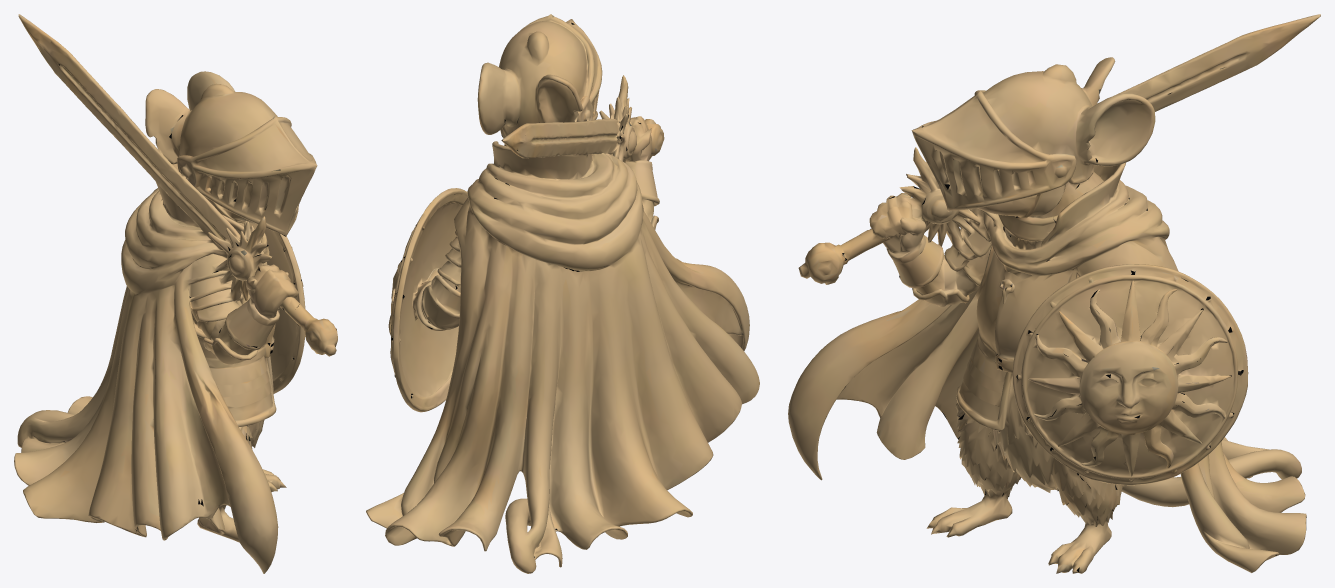
File: rat-web.glb
3 views of the same model, side by side, from view 1: azimuth 30°, elevation 25°; view 2: azimuth 150°, elevation 25°; view 3: azimuth 270°, elevation 25° (orthographic). The views are drawn at different scales.
Parts seen in each view (by area): view 1: tripo_node_02fa16d0; view 2: tripo_node_02fa16d0; view 3: tripo_node_02fa16d0.
Part boxes in pixels (x1=…): tripo_node_02fa16d0: x1=14, y1=14, x2=337, y2=573; tripo_node_02fa16d0: x1=366, y1=14, x2=759, y2=573; tripo_node_02fa16d0: x1=788, y1=14, x2=1320, y2=573.
Size of the model in its own units: 0.5243 by 0.7833 by 0.7842.
Materials: 1 (1 with a texture image).
